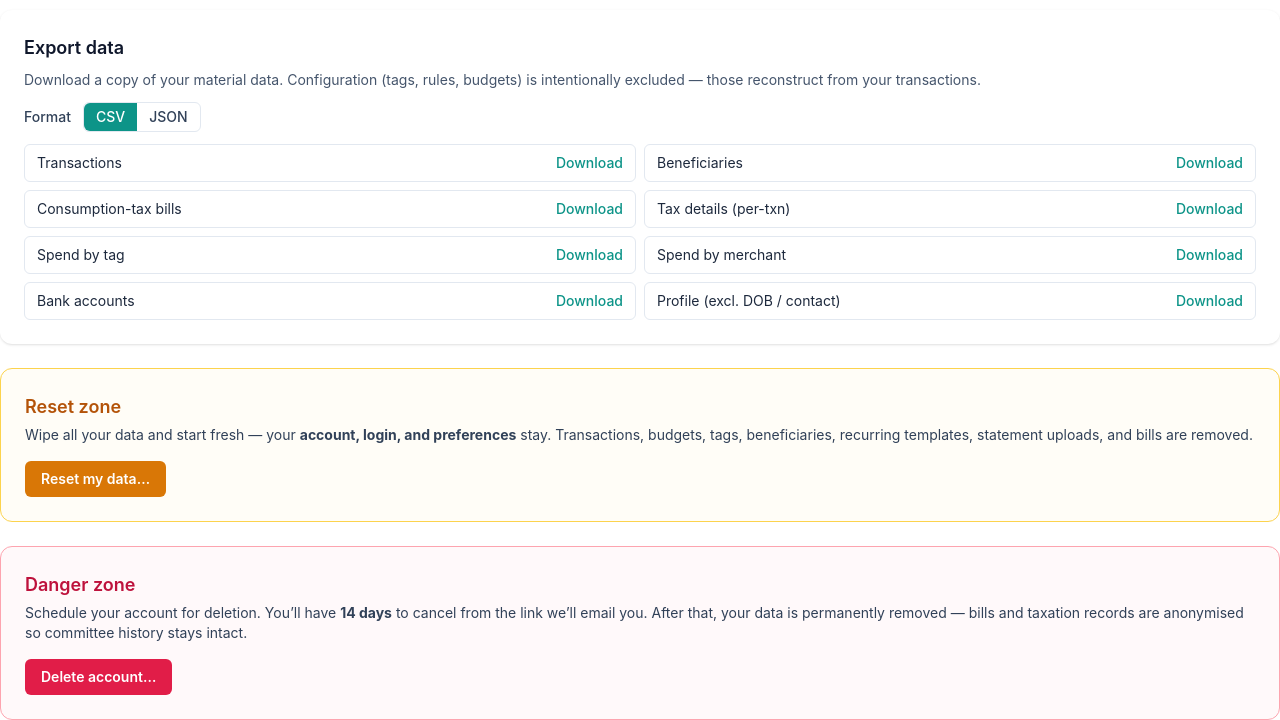
Test: AccountPrivacyPage › surfaces "Incorrect password" inline when the BE returns 403
(page scrolled)
Click the button with test id "danger-zone-delete" at coordinates (99, 677), box top-left (25, 659), bottom-right (172, 695)
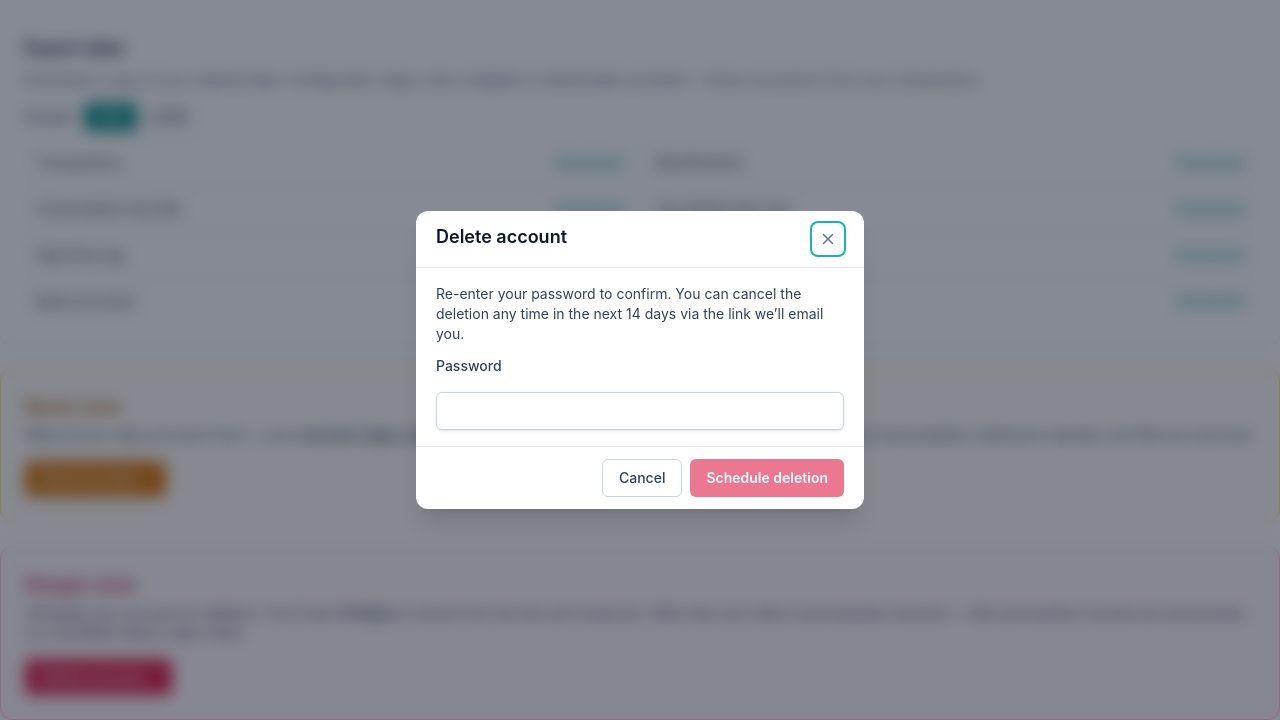
Now the heading "Delete account" is shown, box top-left (436, 223), bottom-right (567, 251)
Type "whatever" into the password field labelled "Password" at coordinates (640, 411), box top-left (436, 392), bottom-right (844, 430)
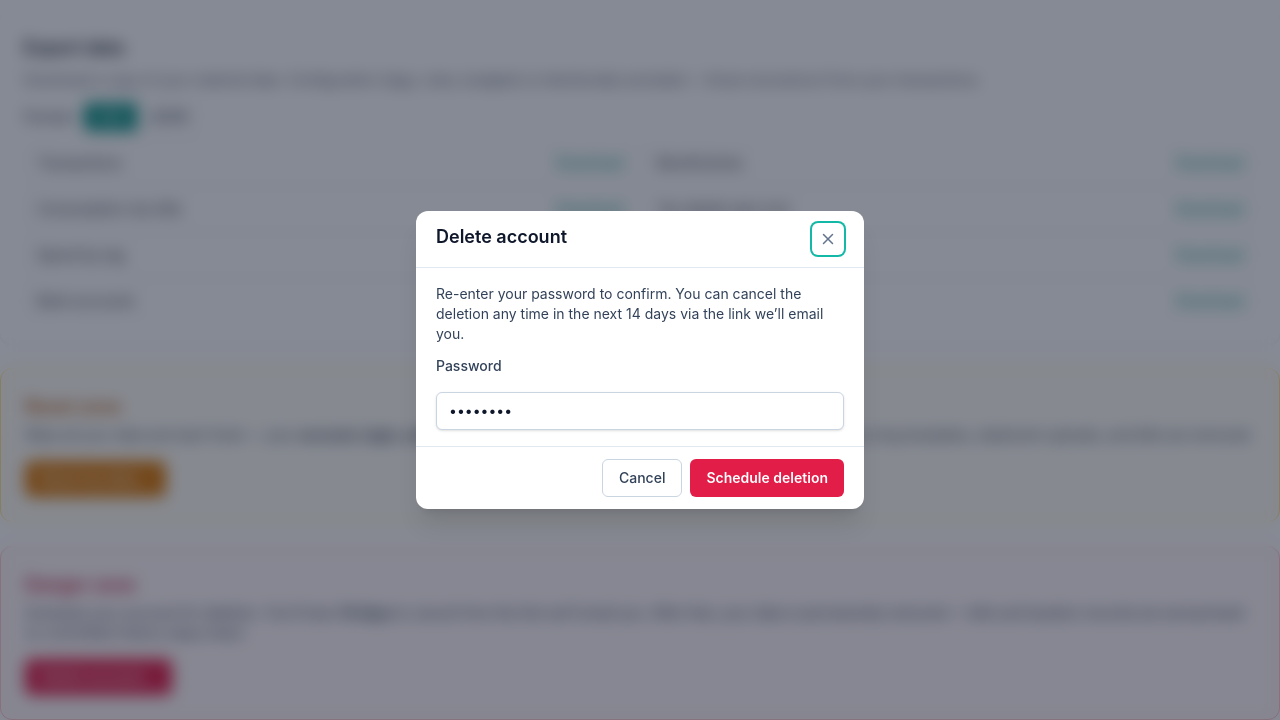
Click the button with test id "danger-zone-confirm" at coordinates (767, 478), box top-left (690, 459), bottom-right (844, 497)
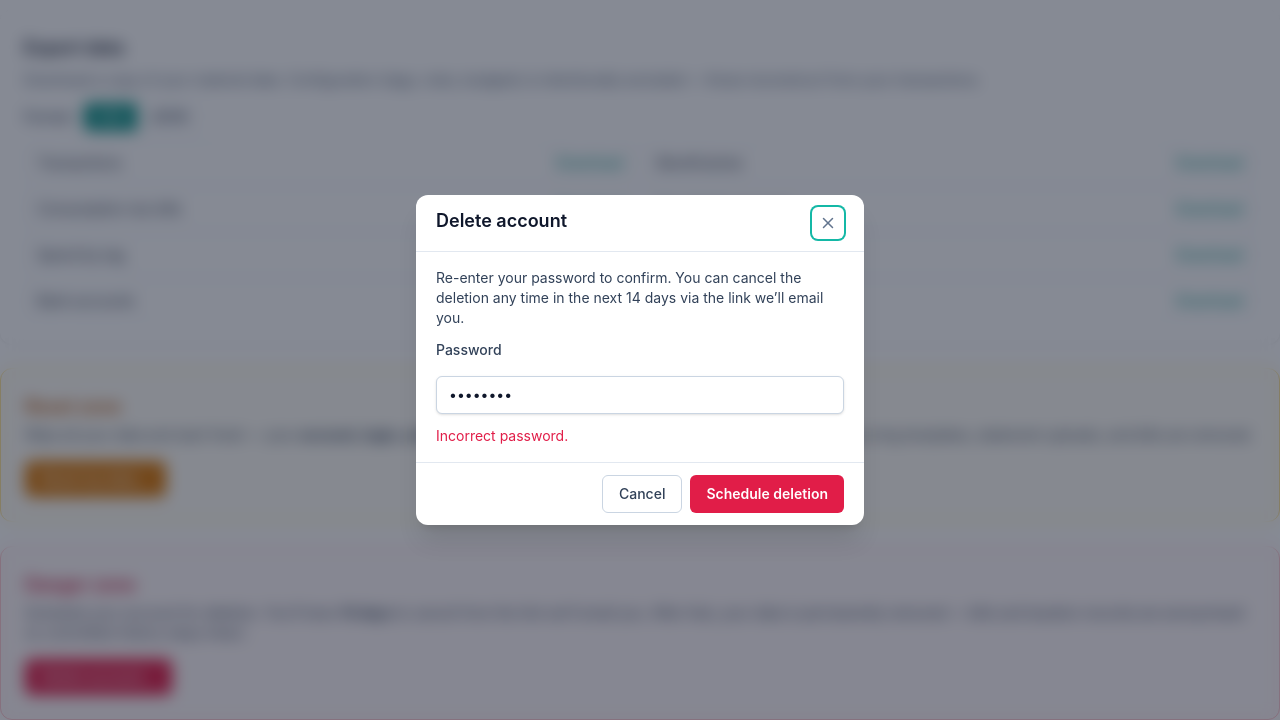
Now the message shows "Incorrect password", box top-left (436, 427), bottom-right (568, 444)
